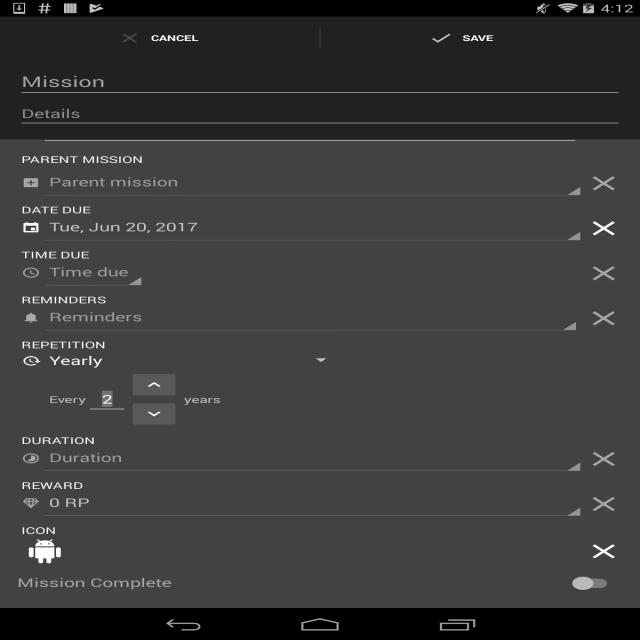Button: (41, 166, 584, 198), (41, 211, 584, 243), (41, 442, 584, 474), (41, 486, 584, 518), (41, 301, 580, 333), (41, 256, 146, 288)
EditText: (17, 65, 623, 98), (17, 98, 623, 129), (86, 384, 128, 414)
ImageButton: (128, 399, 180, 429), (128, 370, 180, 399)
ImageView: (584, 306, 623, 331), (584, 172, 623, 196), (584, 262, 623, 286), (584, 447, 623, 471), (584, 492, 623, 516), (584, 540, 623, 564), (26, 540, 64, 564), (584, 217, 623, 240), (22, 176, 40, 188), (22, 222, 40, 234), (22, 266, 40, 278), (22, 312, 40, 324), (22, 355, 40, 367), (22, 452, 40, 464), (22, 498, 40, 510)
Spinner: (41, 348, 332, 372)
Switch: (568, 574, 623, 592)
TextView: (17, 574, 569, 590), (41, 348, 314, 372), (117, 30, 220, 46), (21, 153, 143, 166), (428, 30, 515, 46), (21, 293, 106, 306), (21, 338, 106, 351), (21, 434, 96, 447), (21, 203, 91, 216), (21, 248, 89, 261), (21, 479, 84, 492), (49, 393, 86, 406), (184, 393, 221, 406), (21, 524, 56, 537)
